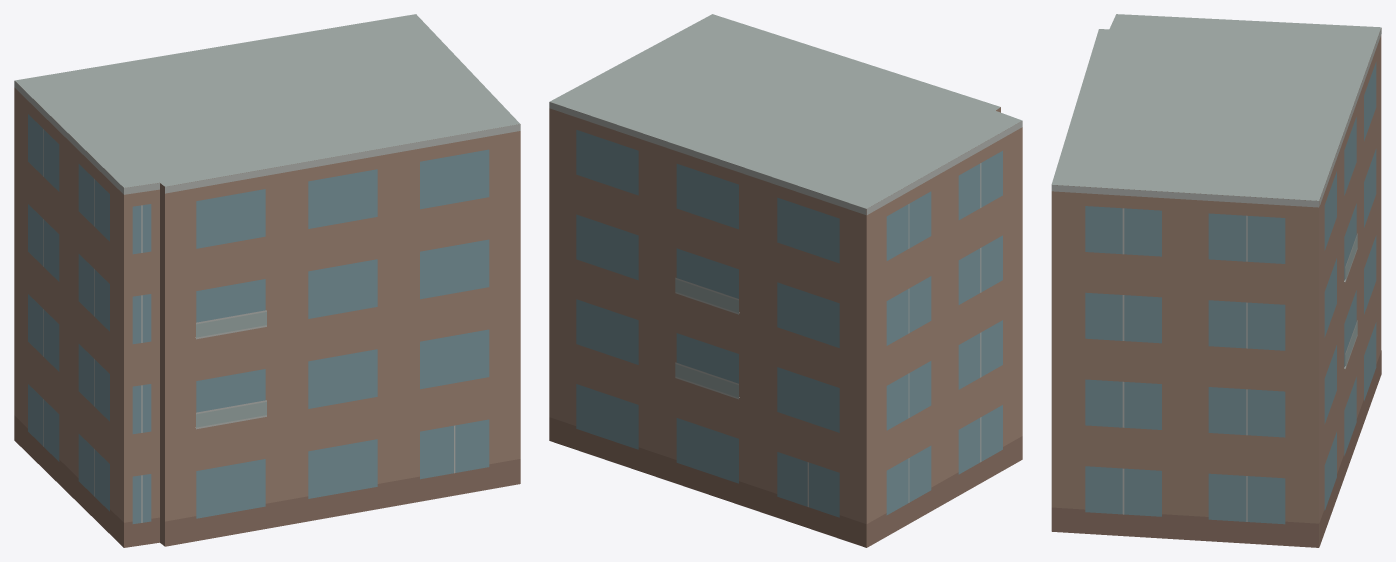
Rendered from survey-upis-32671538.glb.
3 renders of one model, left to right at view 1: azimuth 30°, elevation 25°; view 2: azimuth 150°, elevation 25°; view 3: azimuth 270°, elevation 25°, orthographic. The views are drawn at different scales.
Visible parts, largest first — view 1: survey-upis-32671538.tmp; view 2: survey-upis-32671538.tmp; view 3: survey-upis-32671538.tmp.
Boxes of the visible parts, x1,y1,x2,y2 form: survey-upis-32671538.tmp: (14, 14, 520, 547); survey-upis-32671538.tmp: (549, 14, 1022, 547); survey-upis-32671538.tmp: (1051, 14, 1381, 547).
Bounding box in the file's own units: 14.8 × 12.8 × 11.04.
